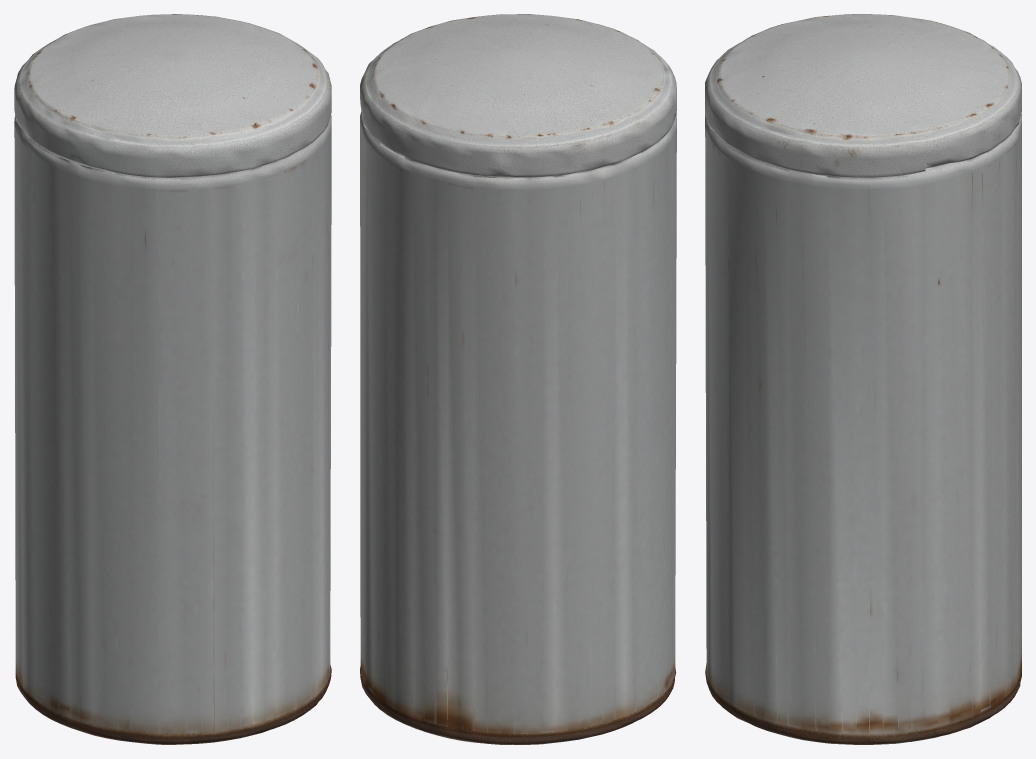
File: TrashBin.fbx
The picture shows the model from 3 angles, left to right: view 1: azimuth 30°, elevation 25°; view 2: azimuth 150°, elevation 25°; view 3: azimuth 270°, elevation 25°; orthographic projection.
Visible parts, largest first — view 1: mesh_node; view 2: mesh_node; view 3: mesh_node.
Boxes of the visible parts, x1=… form: mesh_node: x1=14, y1=14, x2=331, y2=744; mesh_node: x1=360, y1=14, x2=676, y2=744; mesh_node: x1=705, y1=14, x2=1021, y2=744.
Size of the model in its own units: 87.28 by 191 by 87.28.
Materials: 1 (1 with a texture image).
